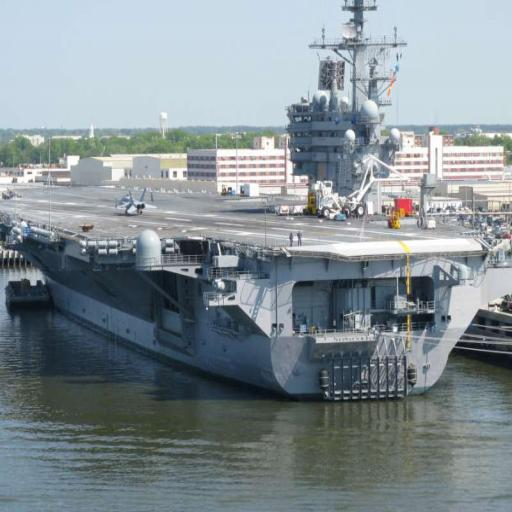Portanaves: (2, 6, 504, 406)
